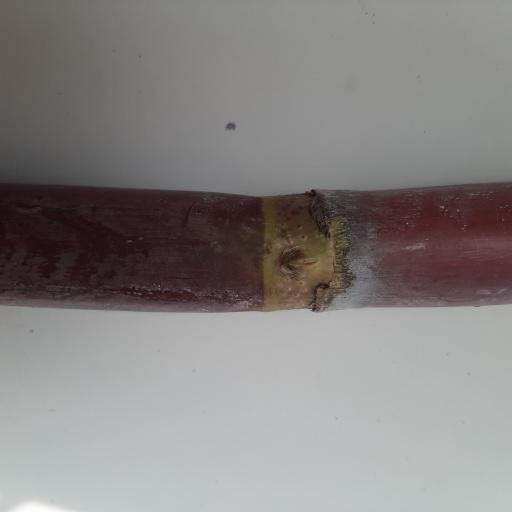Bud: (277, 245, 318, 282)
